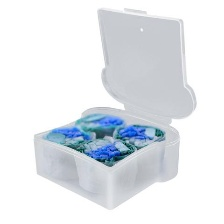plastic_box: (25, 0, 204, 216)
